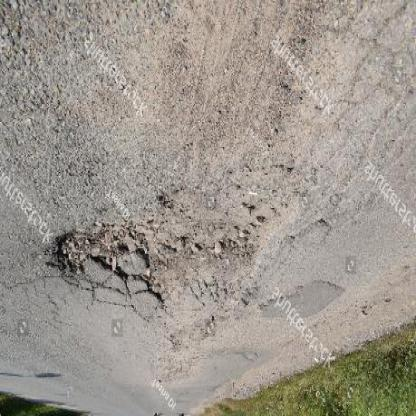pothole: (47, 223, 163, 311)
